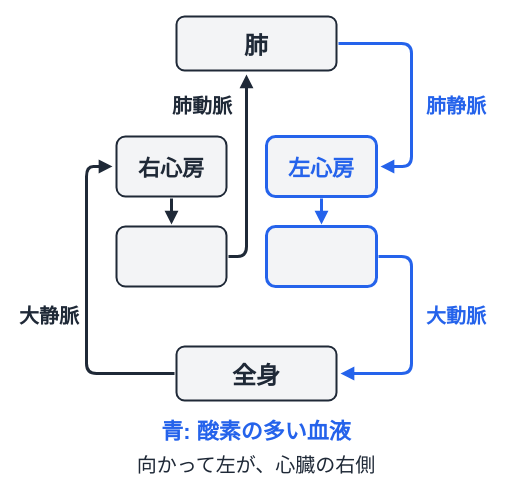
Image size: 513x497. Some labels were removed from this diagram. Each missing label, with the box of its shape:
右心室: (115, 225, 227, 287)
左心室: (264, 224, 378, 288)
